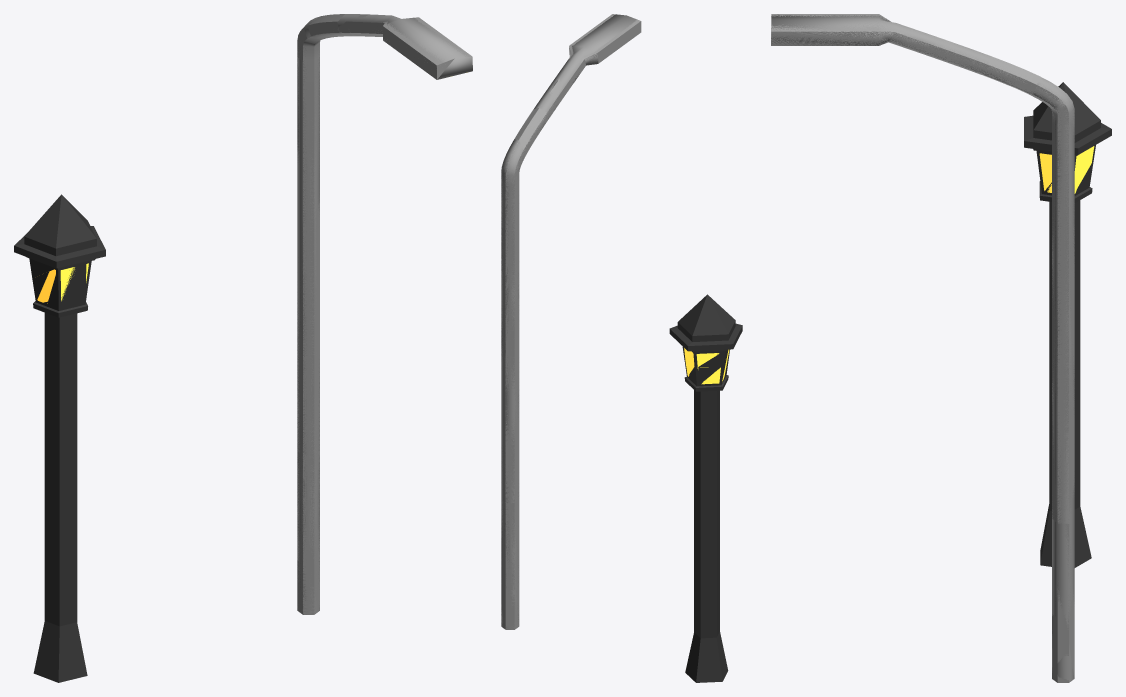
Rendered from streetlights_breakable.fbx.
3 views of the same model, side by side, from view 1: azimuth 30°, elevation 25°; view 2: azimuth 150°, elevation 25°; view 3: azimuth 270°, elevation 25° (orthographic). The views are drawn at different scales.
Parts seen in each view (by area): view 1: Streetlight1, Streetlight2, Streetlight2_cell.002_cell, Streetlight1_cell.002, Streetlight2_cell.002_cell.001, Streetlight1_cell_cell.002, Streetlight2_cell.001, Streetlight1_cell.001; view 2: Streetlight1, Streetlight2, Streetlight2_cell.002_cell, Streetlight1_cell.002, Streetlight2_cell.002_cell.001, Streetlight1_cell.001, Streetlight1_cell_cell.001, Streetlight2_cell.001, Streetlight1_cell_cell; view 3: Streetlight2, Streetlight1, Streetlight2_cell.002_cell, Streetlight2_cell.002_cell.001, Streetlight2_cell.001, Streetlight1_cell.001, Streetlight1_cell.002, Streetlight1_cell_cell.002.
Part boxes in pixels (x1,y1,x2,y2): Streetlight1: [32, 195, 105, 682]; Streetlight2: [297, 14, 472, 614]; Streetlight2_cell.002_cell: [297, 17, 324, 454]; Streetlight1_cell.002: [14, 194, 96, 278]; Streetlight2_cell.002_cell.001: [338, 14, 472, 79]; Streetlight1_cell_cell.002: [45, 254, 94, 493]; Streetlight2_cell.001: [297, 452, 319, 564]; Streetlight1_cell.001: [44, 489, 77, 626]; Streetlight1: [669, 295, 742, 682]; Streetlight2: [501, 14, 641, 629]; Streetlight2_cell.002_cell: [501, 140, 526, 503]; Streetlight1_cell.002: [673, 294, 742, 367]; Streetlight2_cell.002_cell.001: [534, 14, 637, 118]; Streetlight1_cell.001: [694, 524, 717, 638]; Streetlight1_cell_cell.001: [683, 347, 700, 498]; Streetlight2_cell.001: [501, 500, 518, 589]; Streetlight1_cell_cell: [695, 350, 728, 456]; Streetlight2: [771, 14, 1074, 682]; Streetlight1: [1024, 82, 1111, 567]; Streetlight2_cell.002_cell: [1032, 77, 1074, 523]; Streetlight2_cell.002_cell.001: [771, 15, 989, 73]; Streetlight2_cell.001: [1052, 519, 1074, 629]; Streetlight1_cell.001: [1040, 372, 1080, 558]; Streetlight1_cell.002: [1024, 82, 1111, 154]; Streetlight1_cell_cell.002: [1039, 197, 1079, 377].
Bounding box in the file's own units: 1234 × 2548 × 1195.
